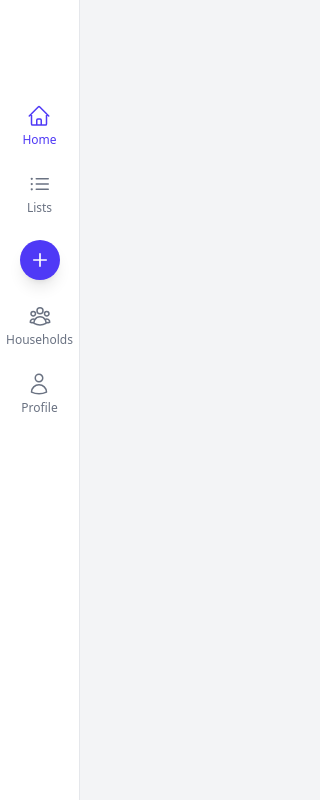
it: BottomNav › Add Button › closes dropdown when menu item is clicked
Click the button named "add new item": x=40, y=260 [20,240,60,280]
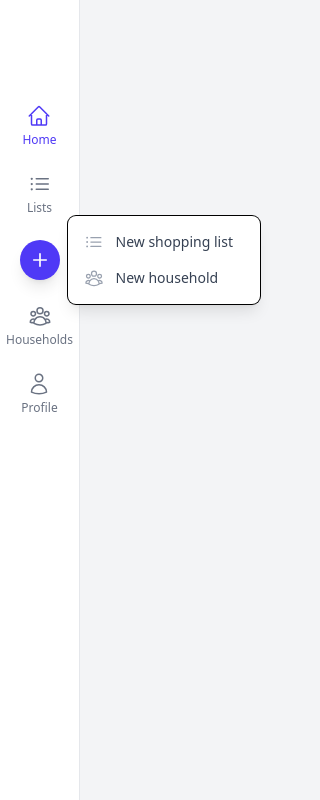
Expected: the menu item "New shopping list" is shown
Click the menu item "New shopping list": x=164, y=242 [68,224,260,260]
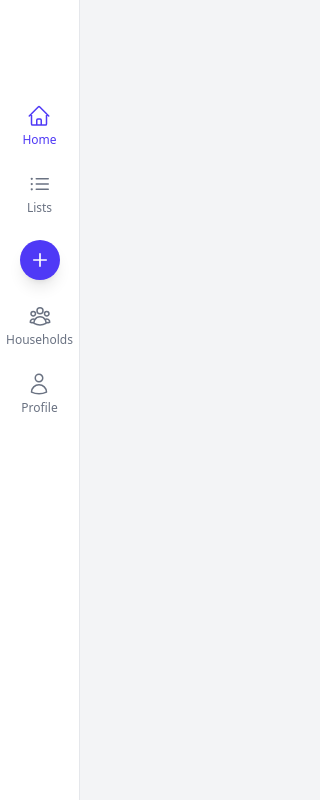
Expected: the menu item "New shopping list" is gone
